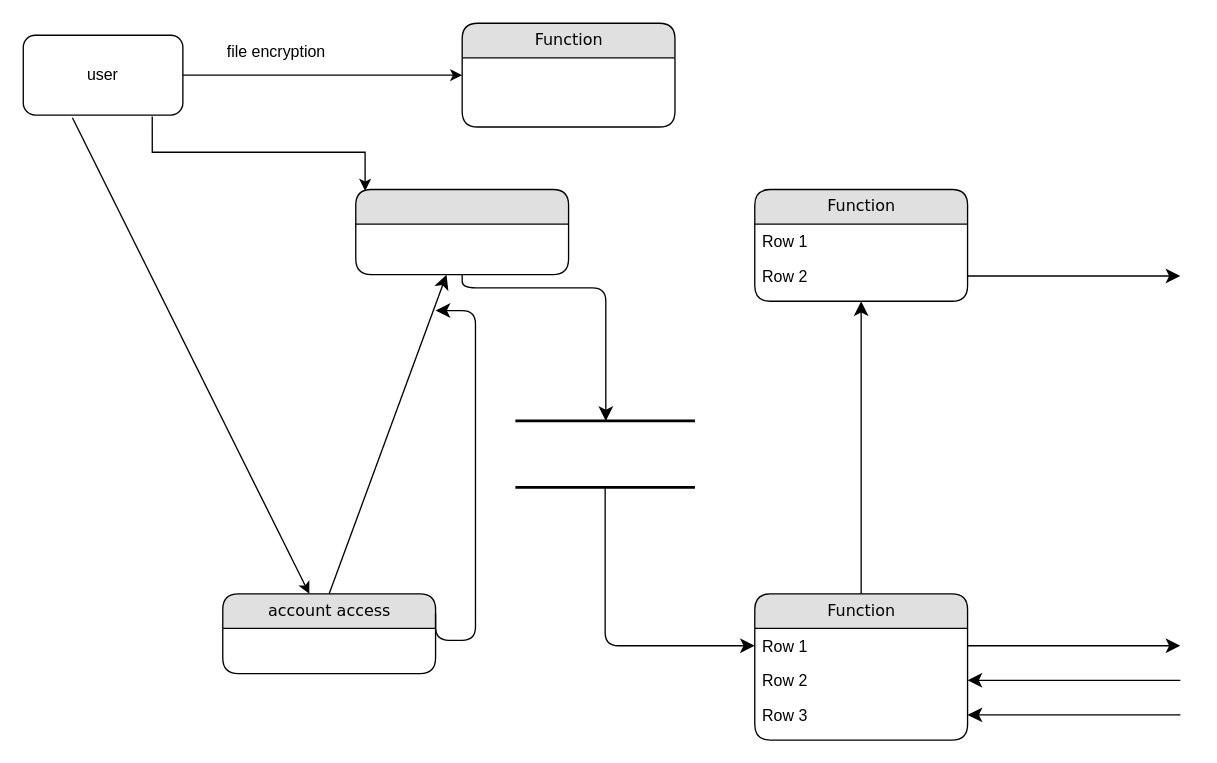
Image size: 1217x763. Some labels were removed from this diagram. Each missing label, with the centre of its shape:
account: point 461,231
Object: point 604,453
